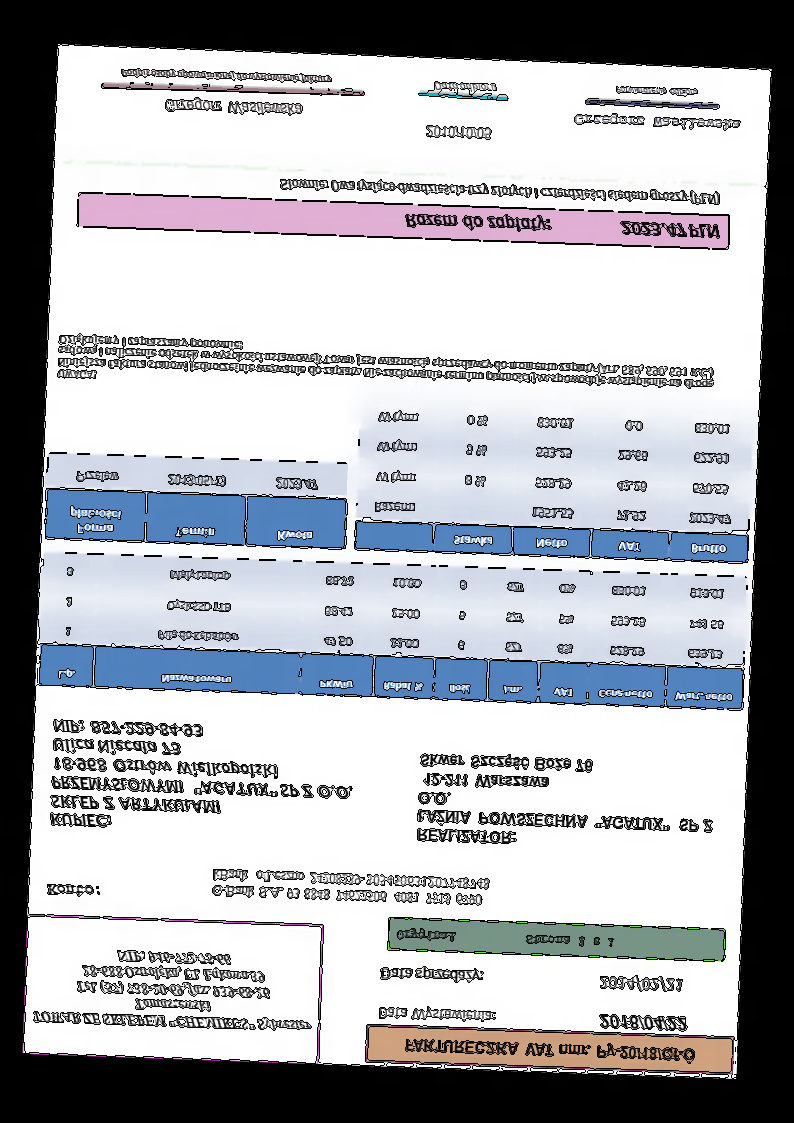Table: (37, 551, 749, 711), (353, 399, 754, 565), (44, 452, 348, 549)
TextBox: (55, 330, 717, 406), (45, 716, 359, 840), (414, 749, 718, 855), (30, 943, 315, 1037), (277, 173, 726, 210), (207, 863, 491, 910), (399, 207, 723, 246), (400, 1037, 696, 1066), (394, 926, 616, 952), (117, 65, 335, 90), (570, 111, 742, 135), (161, 95, 305, 123), (376, 1003, 498, 1027), (378, 963, 486, 987), (594, 1009, 689, 1036), (596, 971, 687, 996), (612, 81, 701, 102), (422, 122, 493, 144), (43, 881, 101, 901), (431, 80, 499, 97)
